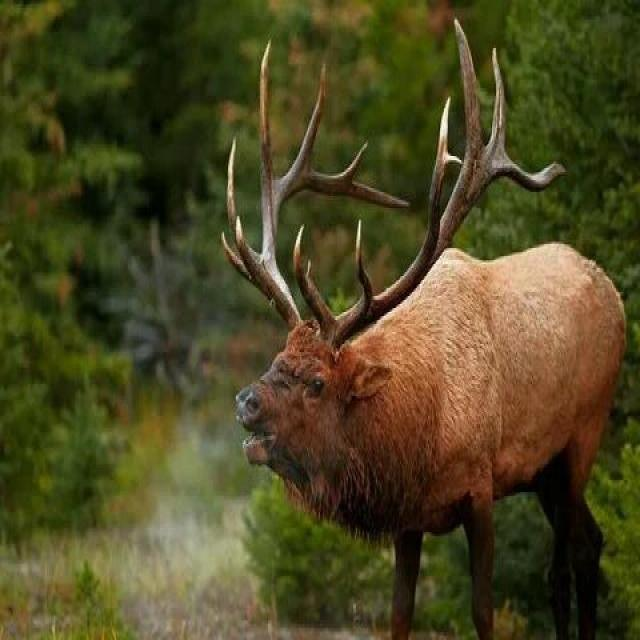deer: (174, 95, 640, 558)
